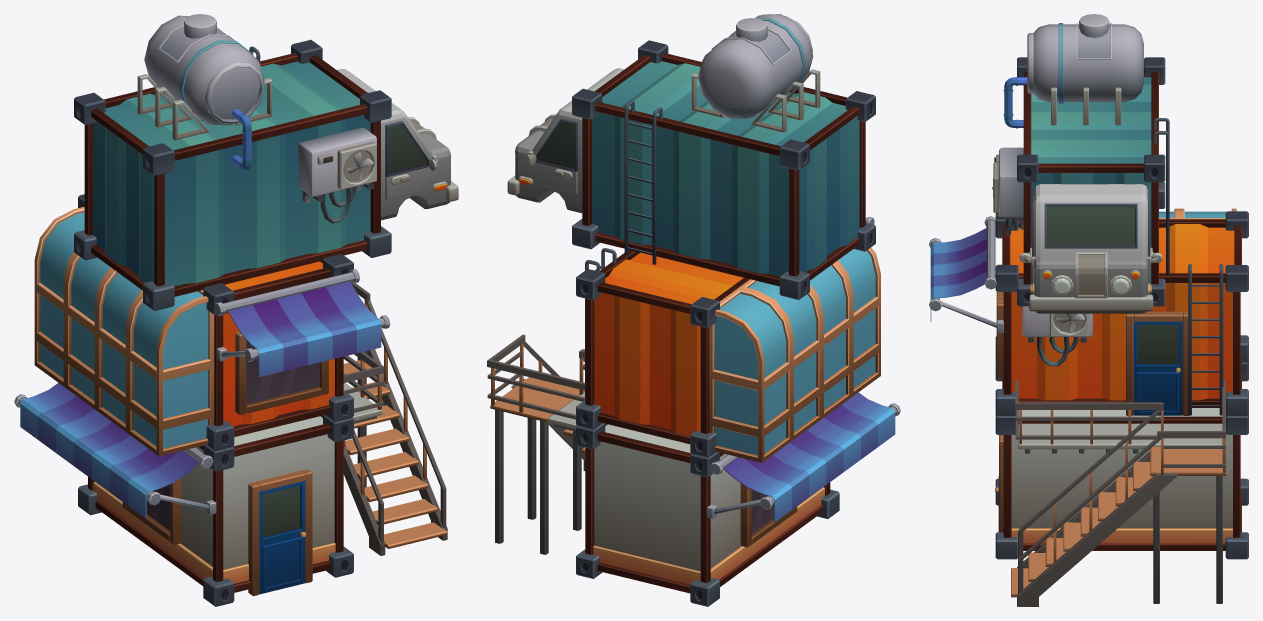
The model's file is house_1.glb.
3 renders of one model, left to right at view 1: azimuth 30°, elevation 25°; view 2: azimuth 150°, elevation 25°; view 3: azimuth 270°, elevation 25°, orthographic. The views are drawn at different scales.
Parts seen in each view (by area): view 1: finb_house_08.001; view 2: finb_house_08.001; view 3: finb_house_08.001.
Part boxes in pixels (<box>): finb_house_08.001: <box>14,14,458,606</box>; finb_house_08.001: <box>487,14,900,606</box>; finb_house_08.001: <box>929,14,1248,606</box>.
Bounding box in the file's own units: 6.89 × 10.76 × 6.3.
Materials: 1 (1 with a texture image).
